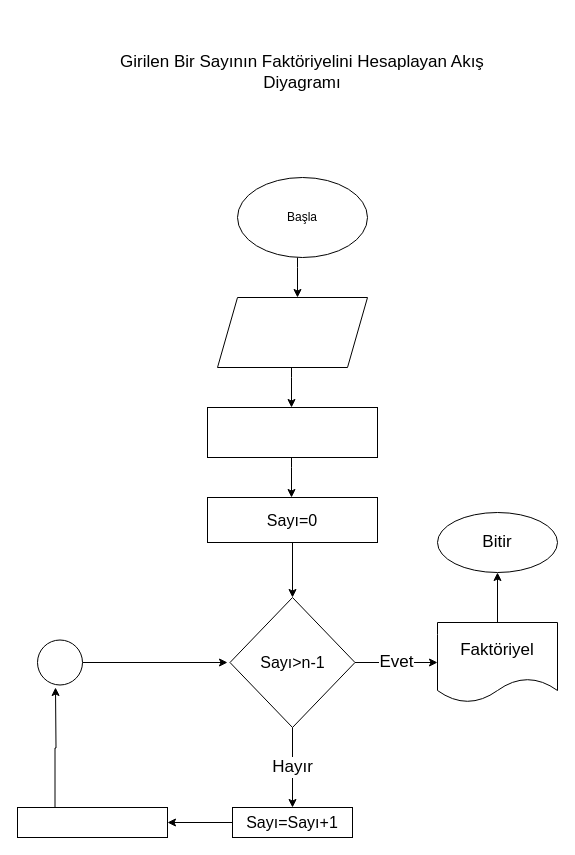
This 575x855 diagram has some shape labels left out. Each missing label, with the box of its shape:
Faktoriyel=1: (206, 406, 378, 458)
Faktöriyel=Faktöritel*sayı: (16, 806, 168, 838)
Lütfen bir n sayısı girin: (216, 296, 368, 368)
